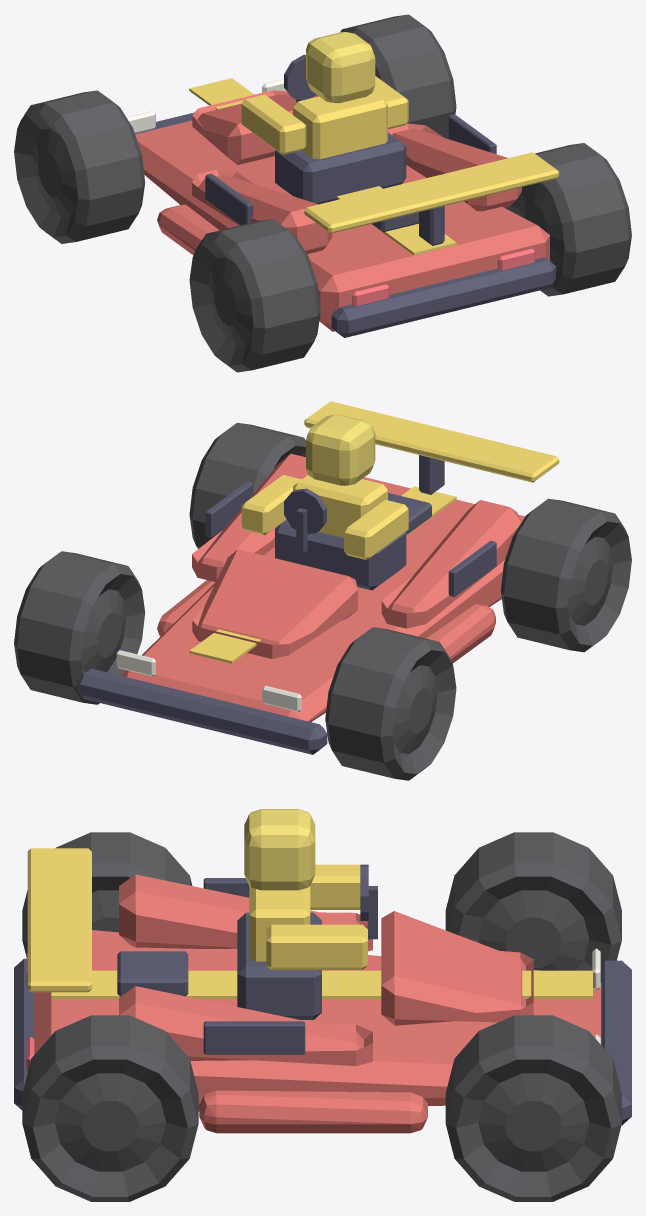
The model's file is Kart_Speedster.fbx.
The picture shows the model from 3 angles, top to bottom: view 1: azimuth 30°, elevation 25°; view 2: azimuth 150°, elevation 25°; view 3: azimuth 270°, elevation 25°; orthographic projection. The views are drawn at different scales.
Visible parts, largest first — view 1: Body, Trim, WheelRL, WheelFL, WheelRR, Accent, Driver, WheelFR, Head, Taillights, Headlights, WeaponMount; view 2: Body, Trim, WheelFL, WheelRL, WheelFR, Accent, Driver, WheelRR, Head, Headlights, WeaponMount; view 3: Body, WheelFR, WheelRR, WheelFL, Trim, Accent, Driver, WheelRL, Head, WeaponMount.
Part boxes in pixels (left/top/right/bottom): Body: left=135, top=90, right=549, bottom=331; Trim: left=135, top=54, right=555, bottom=337; WheelRL: left=189, top=219, right=320, bottom=372; WheelFL: left=14, top=90, right=145, bottom=243; WheelRR: left=505, top=143, right=631, bottom=296; Accent: left=189, top=78, right=559, bottom=255; Driver: left=241, top=76, right=408, bottom=159; WheelFR: left=340, top=14, right=456, bottom=138; Head: left=306, top=32, right=375, bottom=103; Taillights: left=352, top=248, right=535, bottom=305; Headlights: left=126, top=79, right=286, bottom=133; WeaponMount: left=372, top=212, right=418, bottom=232; Body: left=121, top=453, right=524, bottom=721; Trim: left=77, top=455, right=496, bottom=754; WheelFL: left=325, top=627, right=456, bottom=780; WheelRL: left=500, top=498, right=631, bottom=652; WheelFR: left=14, top=551, right=145, bottom=704; Accent: left=189, top=401, right=559, bottom=663; Driver: left=241, top=475, right=408, bottom=559; WheelRR: left=189, top=422, right=305, bottom=548; Head: left=306, top=414, right=375, bottom=485; Headlights: left=116, top=650, right=301, bottom=712; WeaponMount: left=388, top=493, right=431, bottom=534; Body: left=34, top=874, right=601, bottom=1133; WheelFR: left=445, top=1015, right=621, bottom=1201; WheelRR: left=22, top=1015, right=198, bottom=1201; WheelFL: left=445, top=832, right=621, bottom=970; Trim: left=14, top=864, right=631, bottom=1125; Accent: left=27, top=848, right=592, bottom=998; Driver: left=249, top=864, right=367, bottom=969; WheelRL: left=22, top=832, right=192, bottom=956; Head: left=244, top=809, right=315, bottom=890; WeaponMount: left=117, top=951, right=188, bottom=996.
Bounding box in the file's own units: 311 × 181 × 365.
